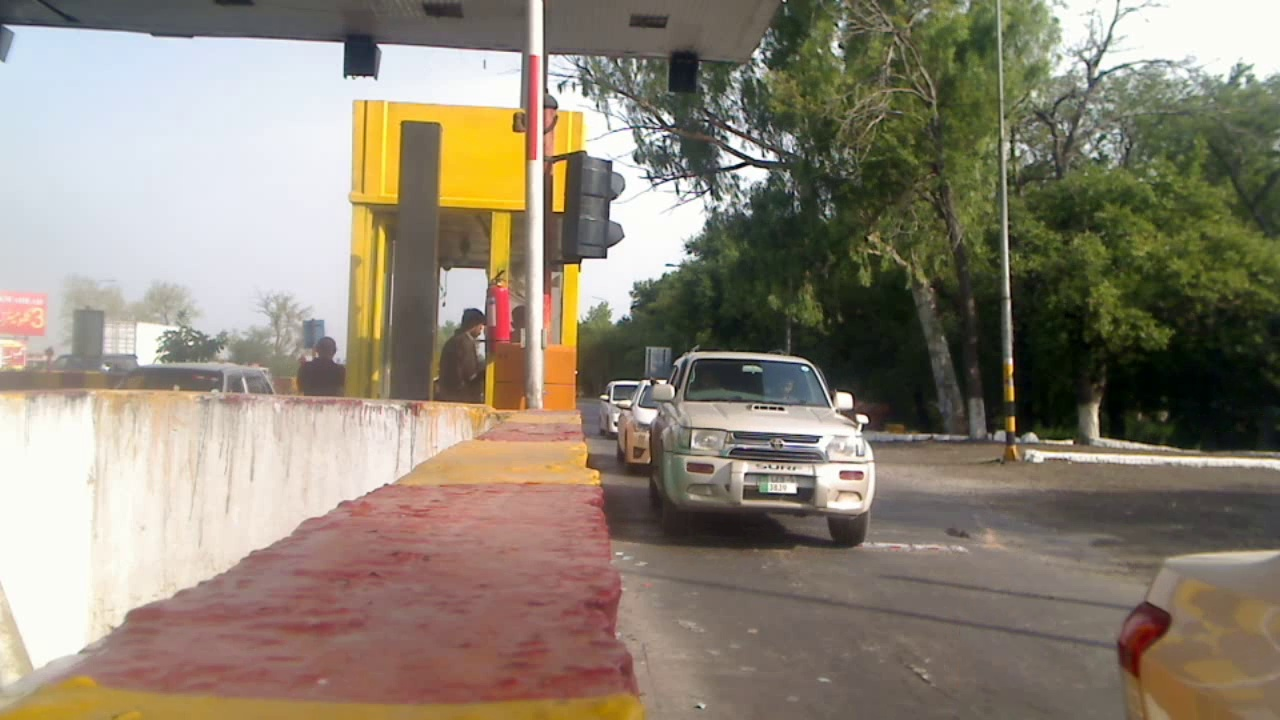Number Plate (Car): (760, 475, 795, 490)
